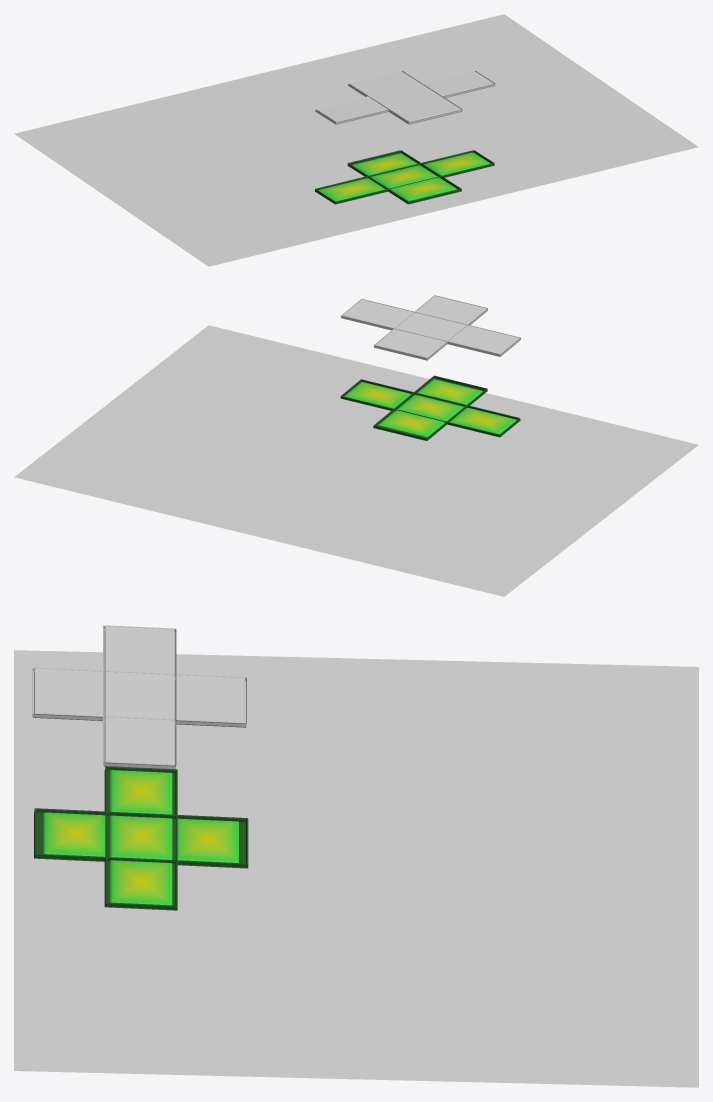
File: seperatedfloorcrosstileGRP.fbx
The picture shows the model from 3 angles, top to bottom: view 1: azimuth 30°, elevation 25°; view 2: azimuth 150°, elevation 25°; view 3: azimuth 270°, elevation 25°; orthographic projection. The views are drawn at different scales.
Parts seen in each view (by area): view 1: floor_plane2, floor_segments2, ceiling2; view 2: floor_plane2, ceiling2, floor_segments2; view 3: floor_plane2, ceiling2, floor_segments2.
Part boxes in pixels (box(x1,y1,x2,y2)): floor_plane2: box(14, 14, 698, 266); floor_segments2: box(314, 150, 494, 204); ceiling2: box(315, 70, 495, 124); floor_plane2: box(14, 325, 698, 596); ceiling2: box(341, 295, 520, 360); floor_segments2: box(340, 375, 520, 440); floor_plane2: box(14, 650, 698, 1087); ceiling2: box(32, 625, 246, 769); floor_segments2: box(34, 766, 248, 910).
Size of the model in its own units: 101 by 19.71 by 69.65.
